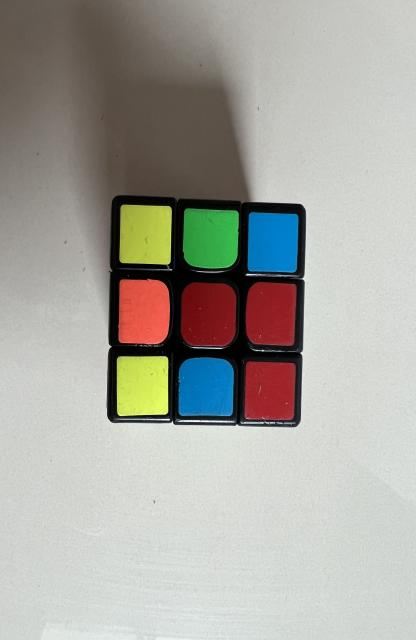Blue: (179, 358, 234, 416), (248, 212, 298, 272)
Green: (183, 209, 238, 269)
Orange: (118, 279, 170, 344)
Red: (181, 282, 236, 346), (246, 282, 297, 346), (245, 361, 296, 420)
Yellow: (119, 205, 172, 265), (117, 356, 169, 416)
